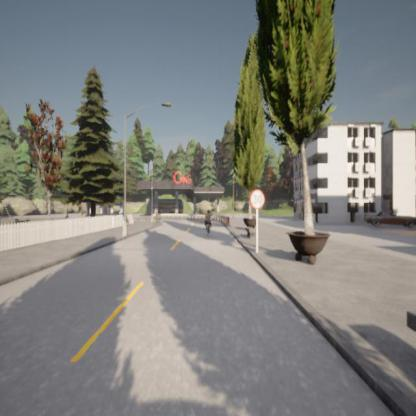motobike: (204, 210, 213, 236)
traffic_sign_30: (250, 190, 266, 208)
